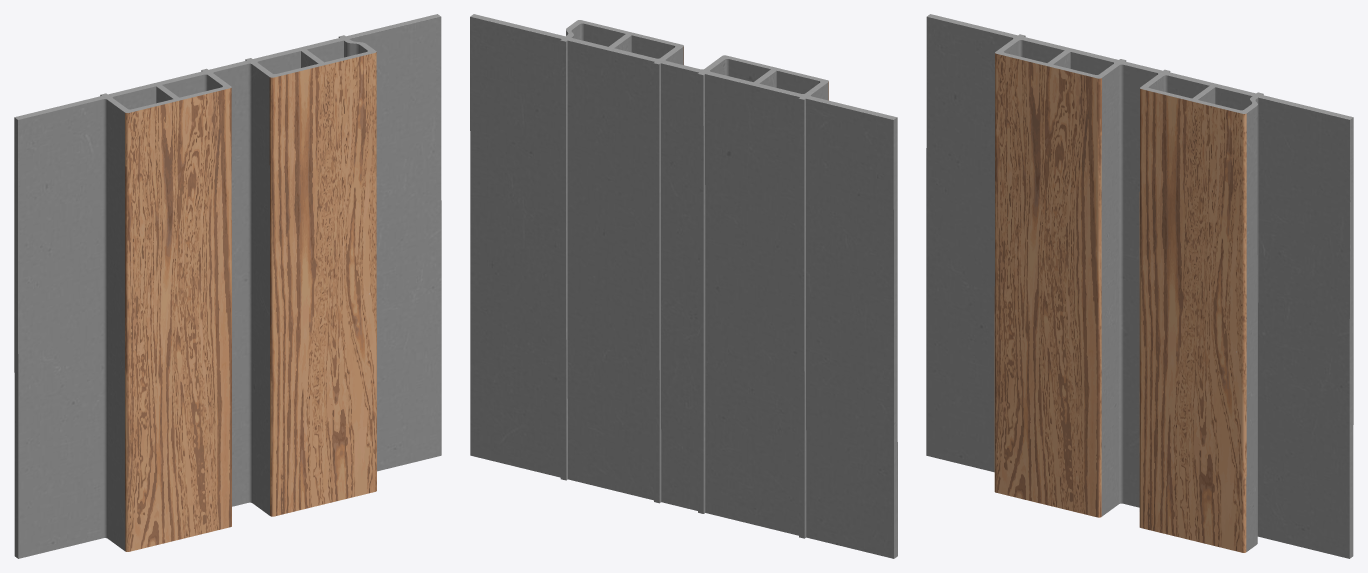
Rendered from 2liboyalı.glb.
3 renders of one model, left to right at view 1: azimuth 30°, elevation 25°; view 2: azimuth 150°, elevation 25°; view 3: azimuth 330°, elevation 25°, orthographic.
Visible parts, largest first — view 1: Plane.008; view 2: Plane.008; view 3: Plane.008.
Part boxes in pixels (left/top/right/bottom): Plane.008: left=14, top=14, right=441, bottom=558; Plane.008: left=470, top=14, right=897, bottom=558; Plane.008: left=926, top=14, right=1353, bottom=558.
Size of the model in its own units: 8.1 by 8.03 by 0.8706.
2 materials, 2 textured.
